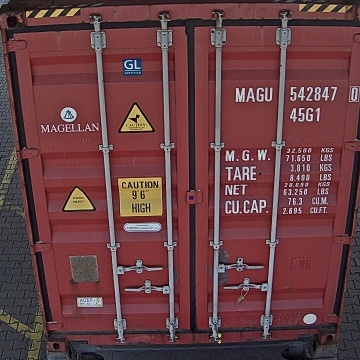serial_id: (236, 86, 359, 101)
